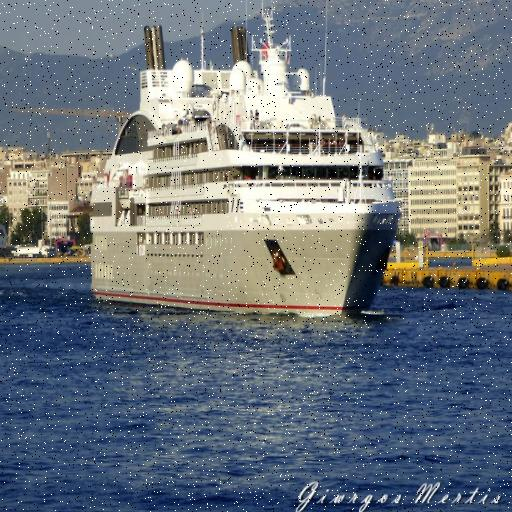cruises: (85, 3, 405, 326)
